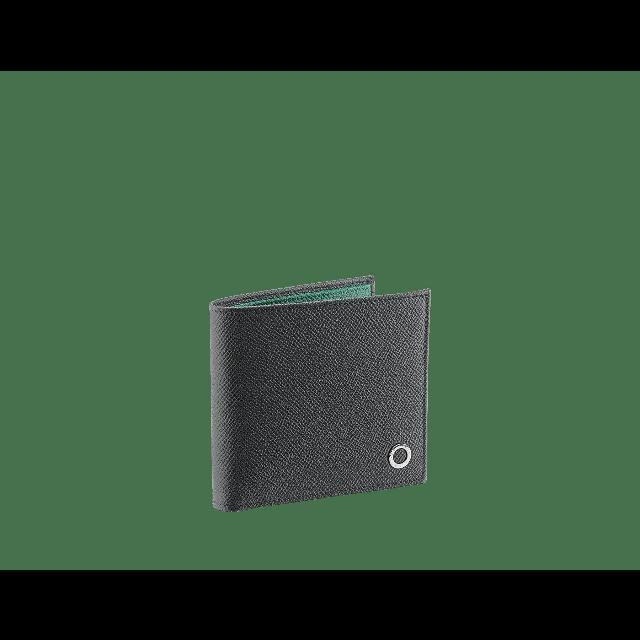wallet: (210, 272, 430, 512)
